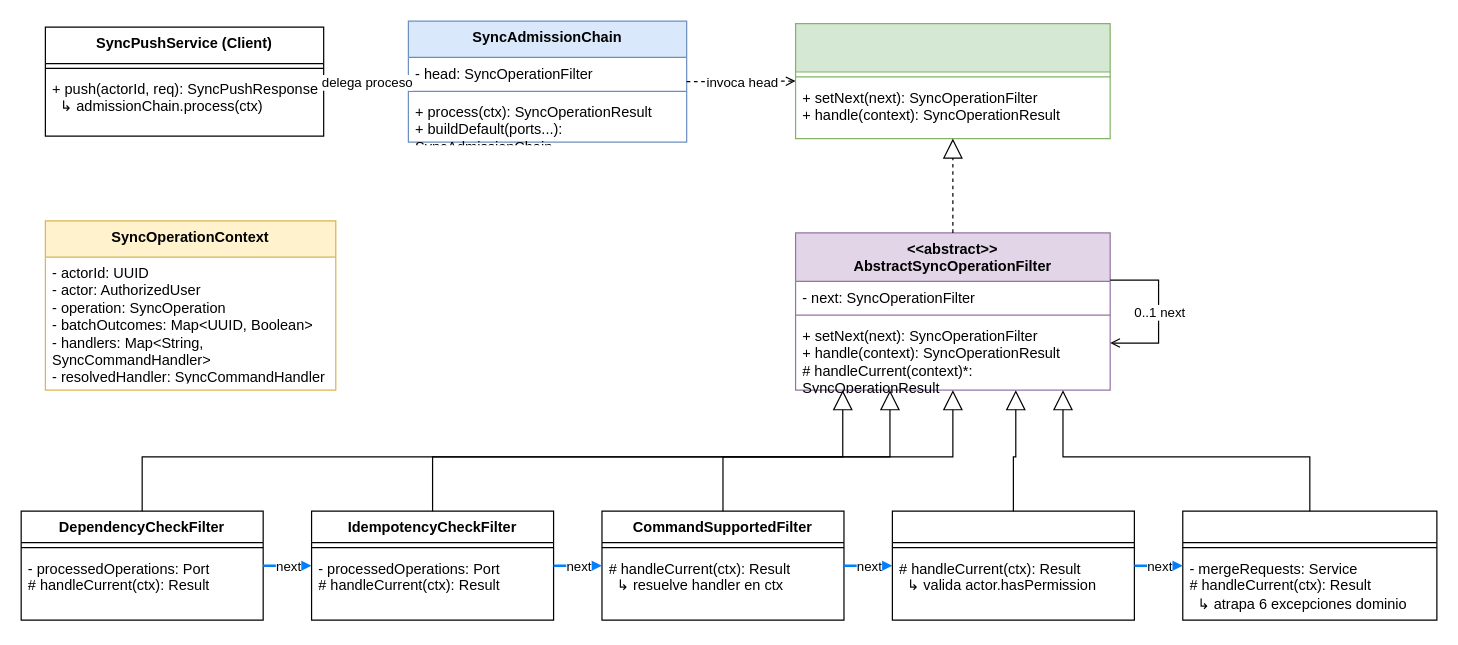
Some shapes in this 1458 by 645 pixel diagram are drawn without their labels. Here are the shapes that lost their labels. From the top down, the box of each, then its label:
(794, 22, 1110, 139): <<interface>> SyncOperationFilter
(891, 510, 1134, 620): PermissionCheckFilter
(1182, 510, 1437, 620): DomainExecutionFilter
